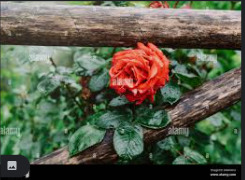RedRose: (106, 39, 172, 102)
